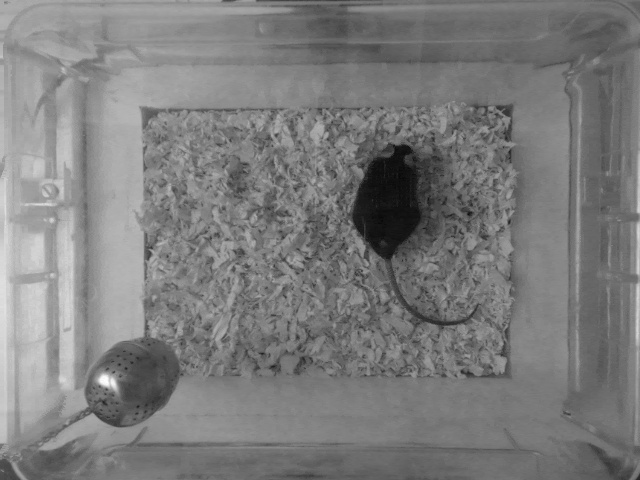mice: (354, 133, 485, 327)
